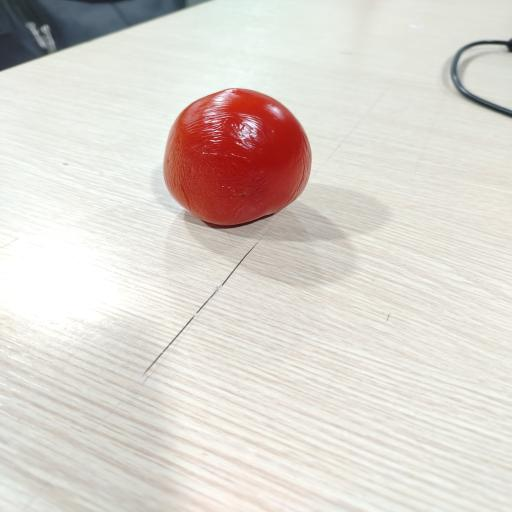spoiled: (164, 89, 311, 225)
